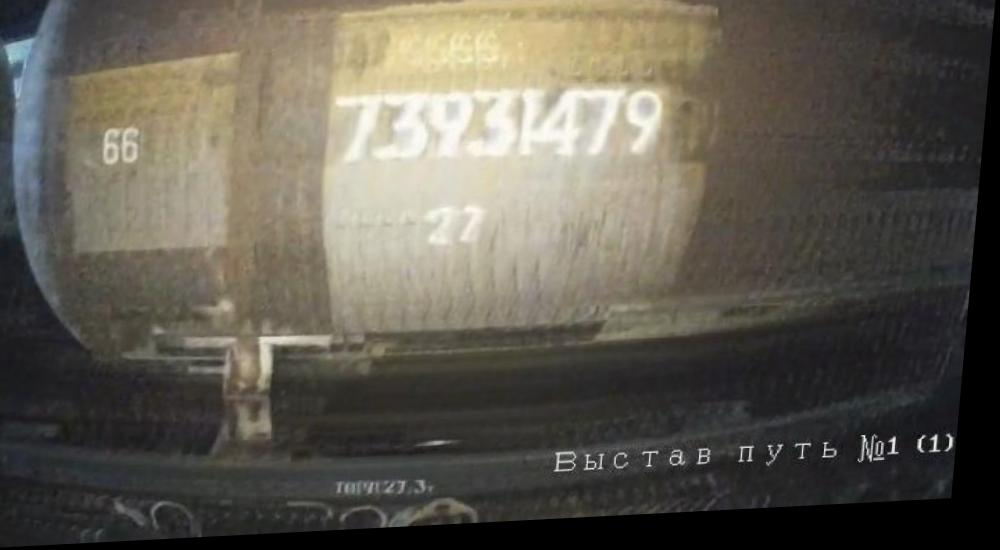Wagon-number: (330, 79, 671, 180)
